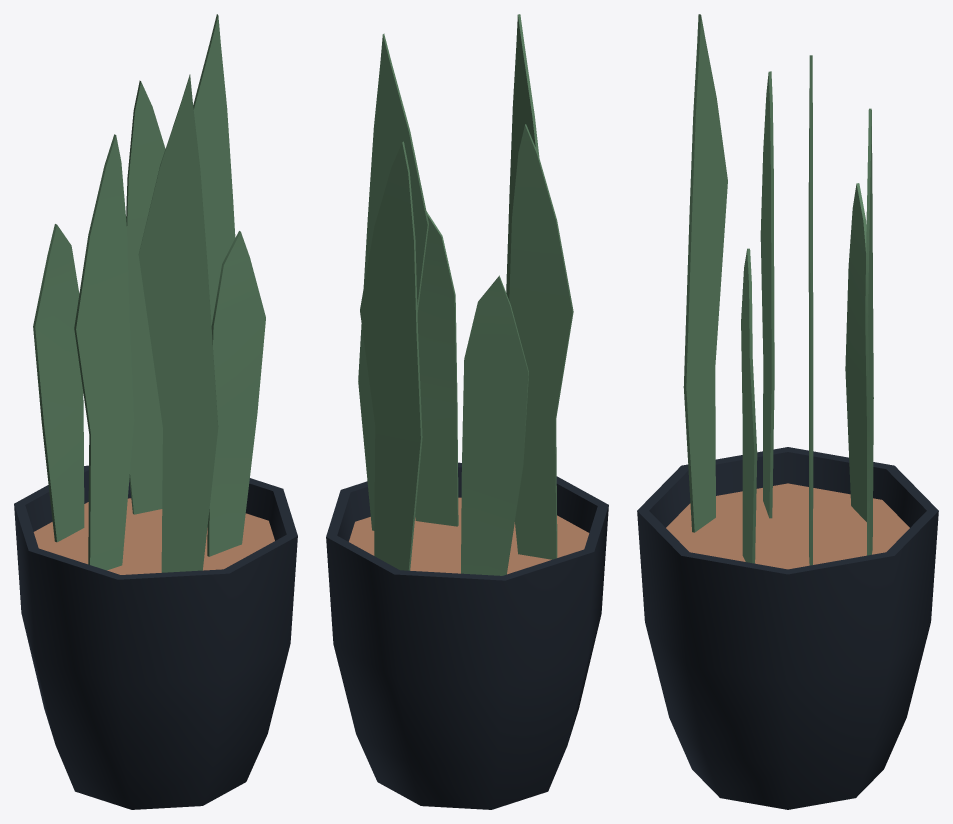
The model's file is plant.glb.
3 renders of one model, left to right at view 1: azimuth 30°, elevation 25°; view 2: azimuth 150°, elevation 25°; view 3: azimuth 270°, elevation 25°, orthographic. The views are drawn at different scales.
Parts seen in each view (by area): view 1: Houseplant_4; view 2: Houseplant_4; view 3: Houseplant_4.
Part boxes in pixels (x1,y1,x2,y2): Houseplant_4: [14, 14, 297, 809]; Houseplant_4: [326, 14, 608, 809]; Houseplant_4: [637, 14, 938, 809].
Size of the model in its own units: 0.3383 by 0.9284 by 0.3383.
